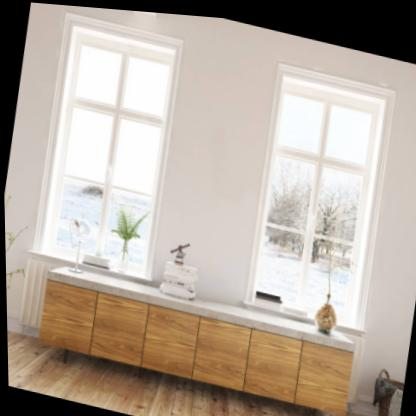Window: (26, 14, 187, 280), (240, 51, 396, 322)
